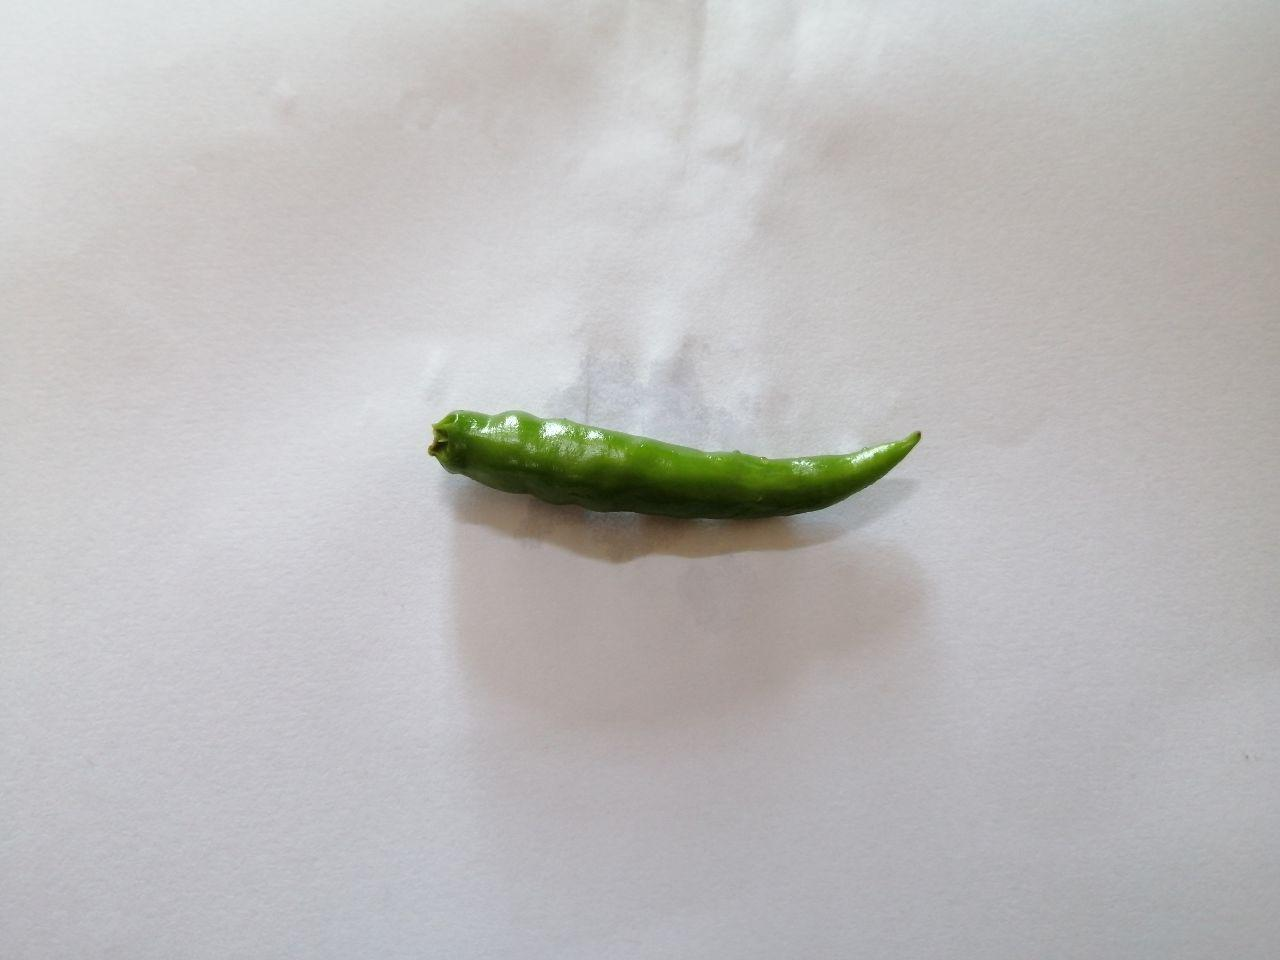lada hijau: (409, 377, 980, 567)
